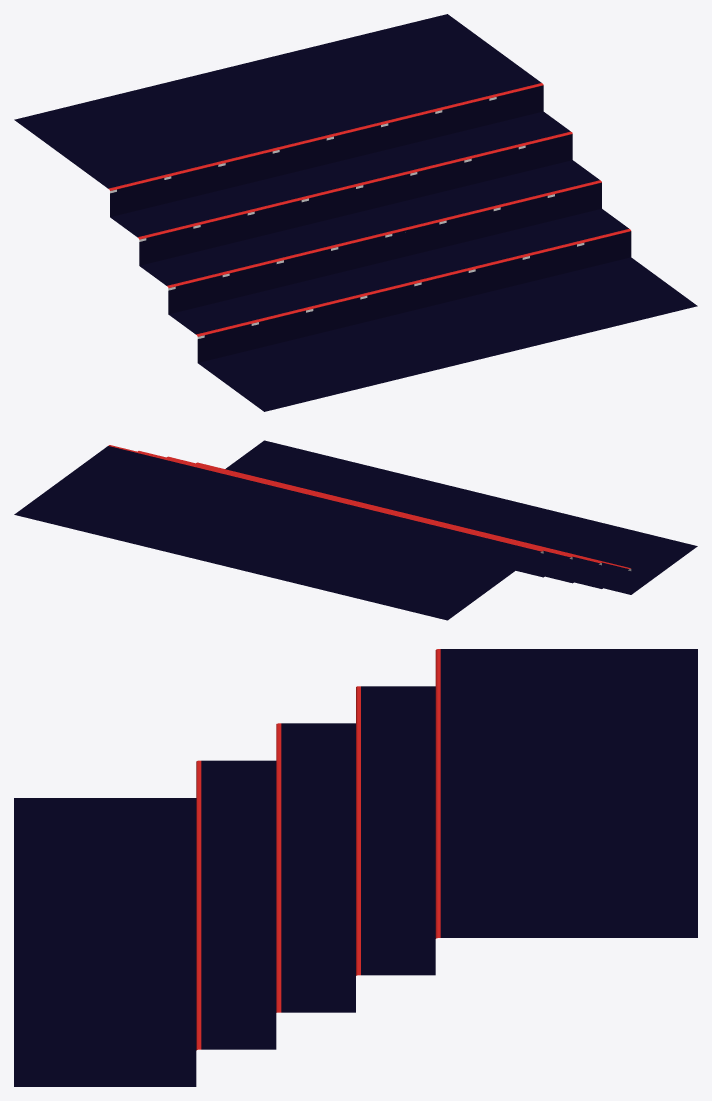
Rendered from Stairs_3x3x0.72.fbx.
3 views of the same model, one above another, from view 1: azimuth 30°, elevation 25°; view 2: azimuth 150°, elevation 25°; view 3: azimuth 270°, elevation 25° (orthographic). The views are drawn at different scales.
Visible parts, largest first — view 1: Stairs_3x3x0.72_u; view 2: Stairs_3x3x0.72_u; view 3: Stairs_3x3x0.72_u.
Part boxes in pixels (box(x1,y1,x2,y2)): Stairs_3x3x0.72_u: box(14, 14, 697, 411); Stairs_3x3x0.72_u: box(14, 440, 697, 620); Stairs_3x3x0.72_u: box(14, 649, 697, 1086).
Size of the model in its own units: 30000 by 7200 by 30000.
